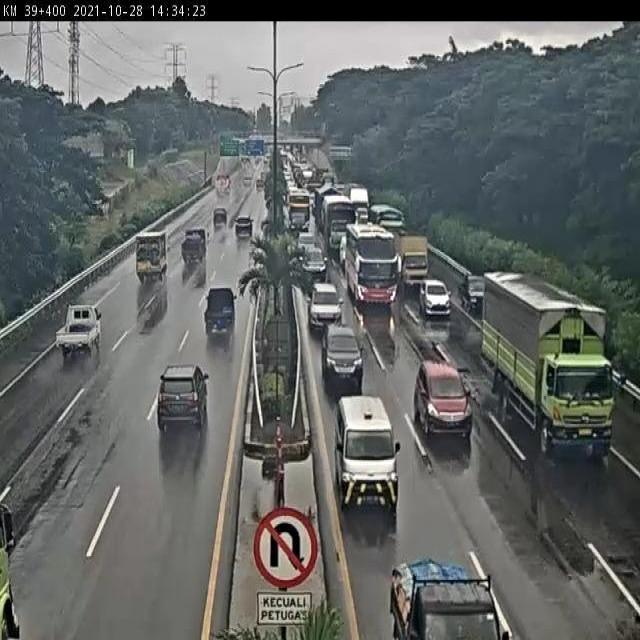big bus: (343, 225, 397, 307), (283, 195, 311, 236)
car: (389, 561, 502, 640), (337, 397, 401, 507), (416, 364, 477, 441), (157, 368, 209, 435), (321, 328, 363, 389), (307, 279, 345, 337), (458, 274, 492, 322), (411, 276, 448, 319), (295, 247, 330, 288), (233, 212, 254, 241), (292, 220, 309, 240)
small truck: (55, 300, 108, 363), (203, 286, 239, 342), (133, 231, 171, 280), (182, 228, 212, 271)
truck-l-: (484, 273, 630, 460), (320, 190, 353, 242)
truck-s-: (397, 238, 437, 294)
